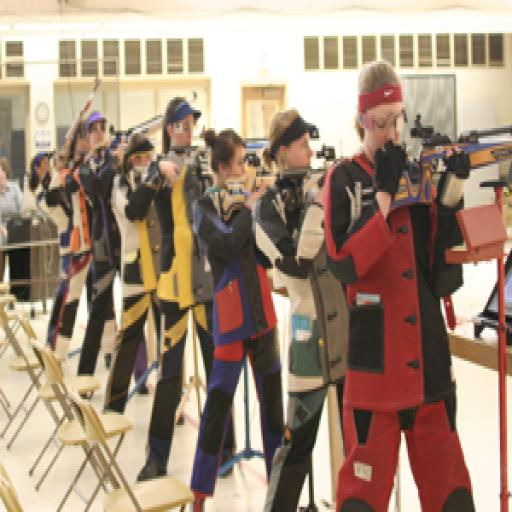shooting: (321, 59, 481, 509), (188, 127, 326, 483), (123, 95, 235, 486), (28, 113, 163, 427), (249, 105, 352, 509), (77, 102, 180, 446), (98, 134, 216, 420)
